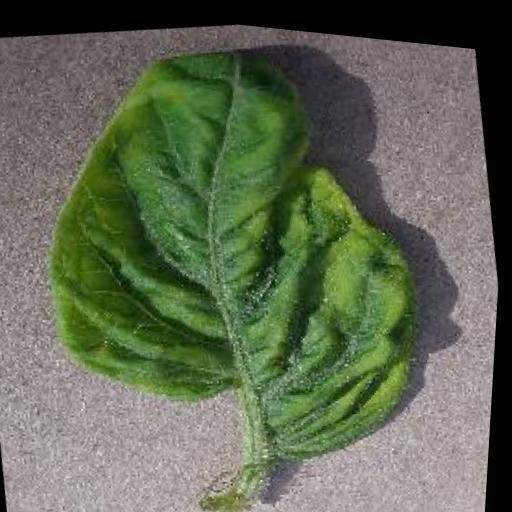Yellow Leaf Curl Virus: (4, 2, 451, 500)
